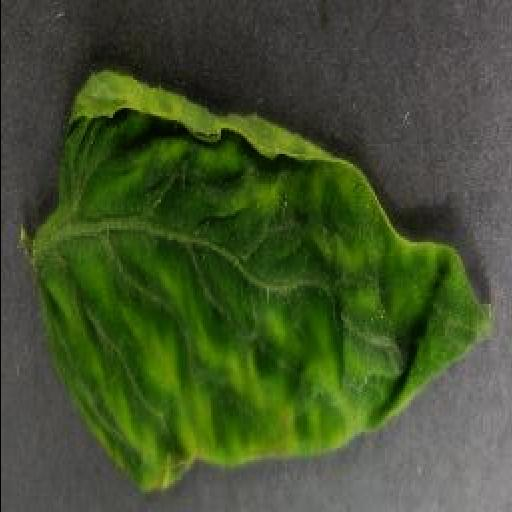disease_tomato: (40, 74, 492, 492)
